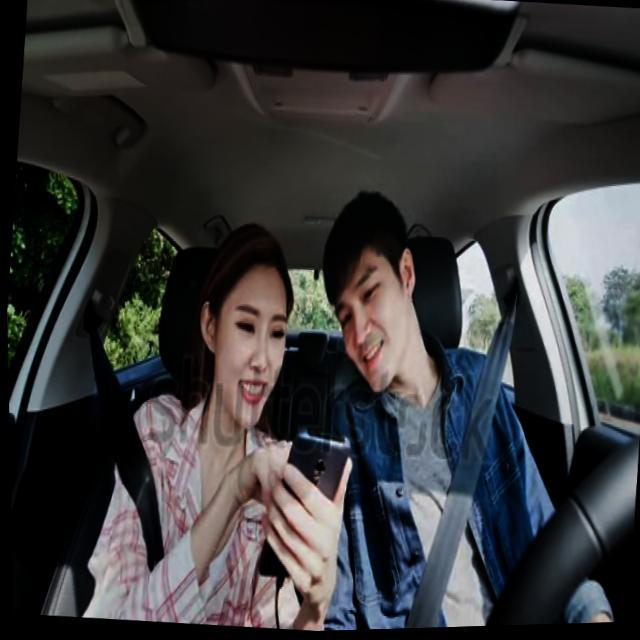PhoneCall: (250, 424, 351, 586)
